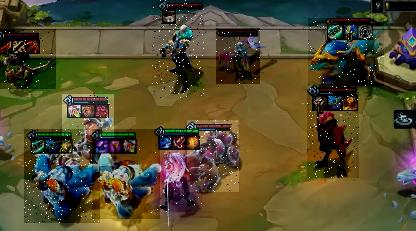1_aoshin: (308, 18, 384, 86)
1_soraka: (216, 28, 260, 84)
2_graves: (152, 0, 204, 98)
2_jayce: (62, 94, 114, 166)
2_nunu: (24, 129, 100, 223), (92, 129, 160, 219)
2_sejuani: (187, 120, 239, 192)
2_twitch: (0, 29, 56, 89)
2_yasuo: (154, 128, 202, 212)
2_zippy: (307, 84, 359, 178)
